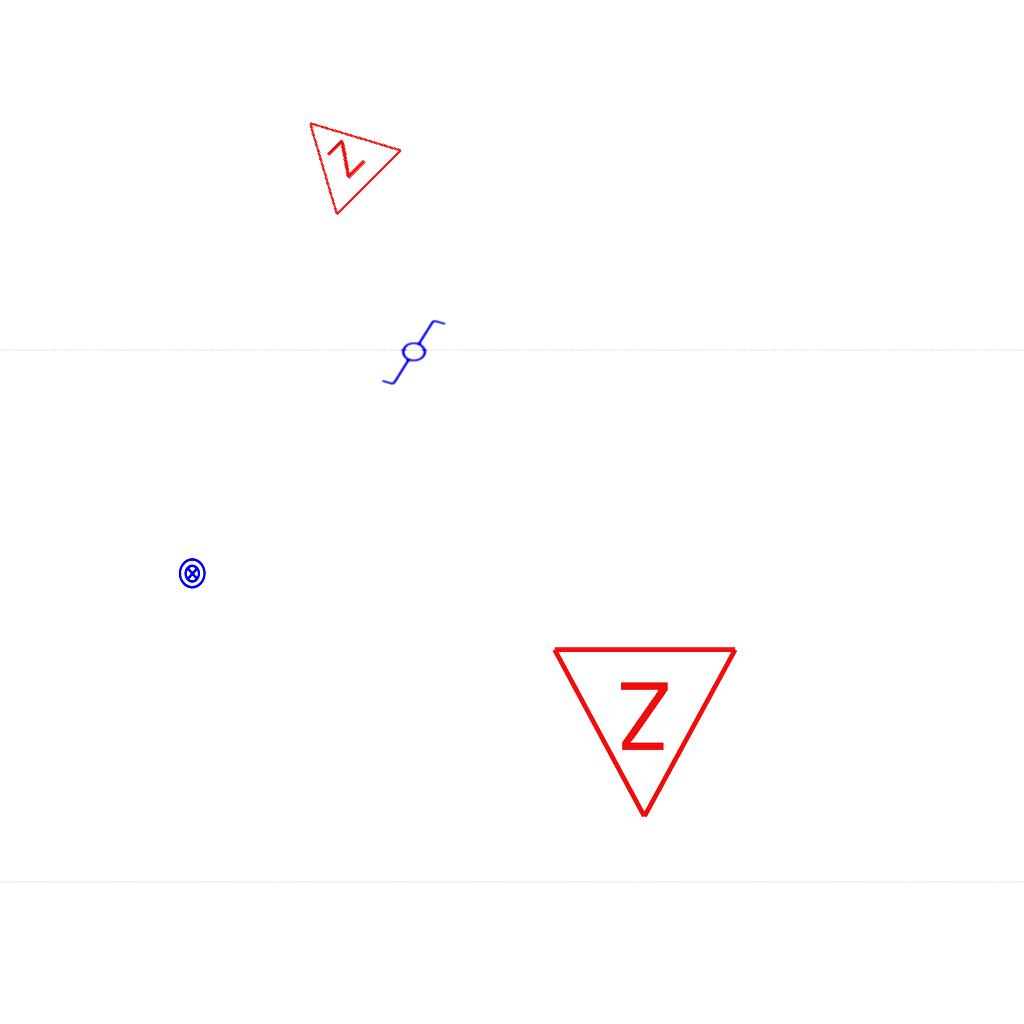Taster_beleuchtet: (176, 557, 209, 590)
Wechselschalter: (379, 317, 457, 389)
Zimmersignalleuchte: (549, 632, 745, 832), (268, 83, 410, 225)
